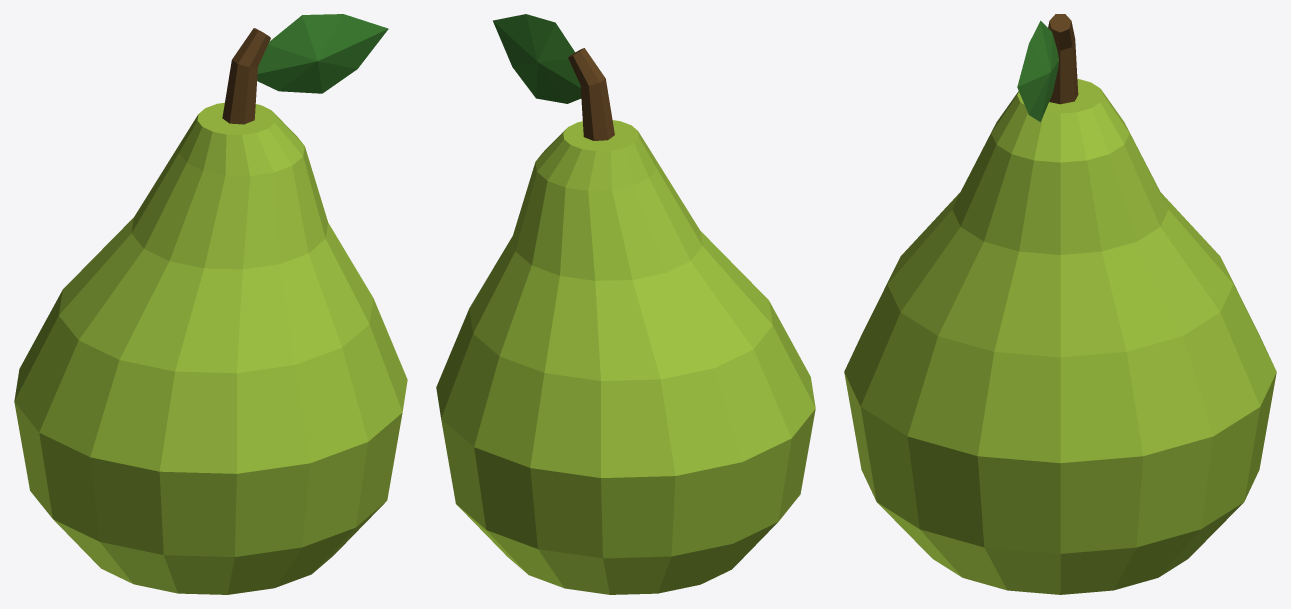
The model's file is PearFruit.glb.
The picture shows the model from 3 angles, left to right: view 1: azimuth 30°, elevation 25°; view 2: azimuth 150°, elevation 25°; view 3: azimuth 270°, elevation 25°; orthographic projection. The views are drawn at different scales.
Visible parts, largest first — view 1: PearFruit_PearBody, PearFruit_PearLeaf, PearFruit_PearStem; view 2: PearFruit_PearBody, PearFruit_PearLeaf, PearFruit_PearStem; view 3: PearFruit_PearBody, PearFruit_PearLeaf, PearFruit_PearStem.
Boxes of the visible parts, box(x1,y1,x2,y2) form: PearFruit_PearBody: box(14, 102, 407, 594); PearFruit_PearLeaf: box(257, 14, 388, 93); PearFruit_PearStem: box(222, 28, 270, 124); PearFruit_PearBody: box(436, 120, 815, 594); PearFruit_PearLeaf: box(493, 14, 581, 103); PearFruit_PearStem: box(568, 48, 614, 140); PearFruit_PearBody: box(844, 78, 1276, 594); PearFruit_PearLeaf: box(1017, 20, 1058, 121); PearFruit_PearStem: box(1048, 14, 1078, 104).
Bounding box in the file's own units: 1 × 1.51 × 1.
